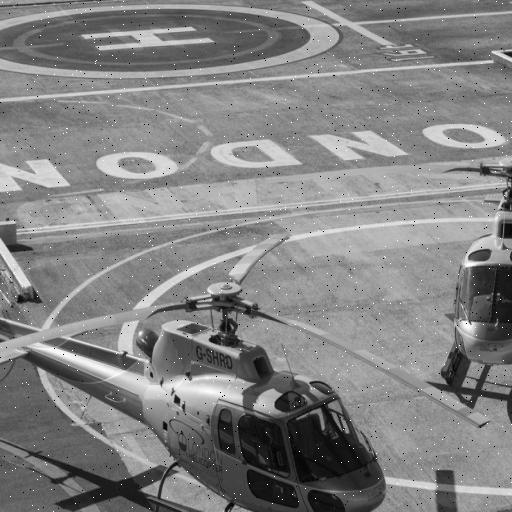helicopter: (1, 202, 467, 512), (421, 60, 512, 405)
